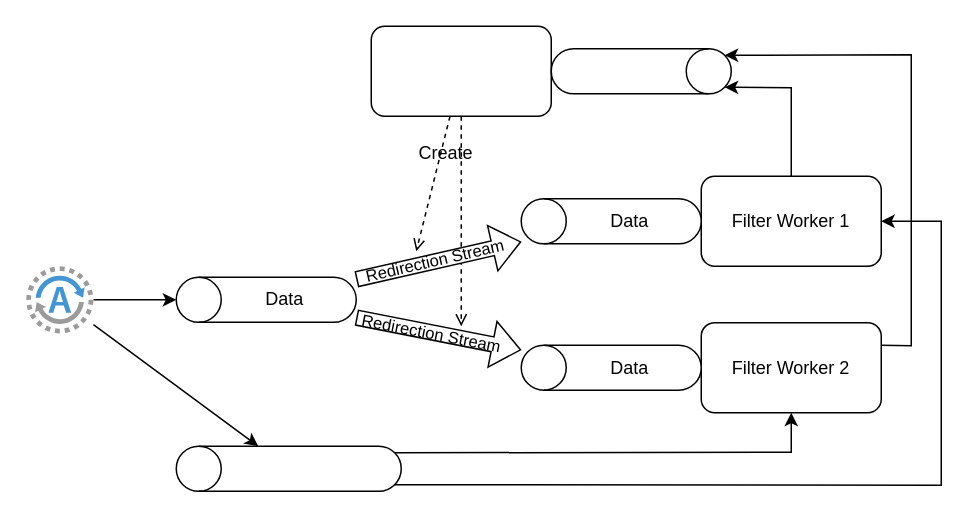
This 980x524 diagram has some shape labels left out. The box of each missing label's shape, as (x1, y1, x2, y2) in pixels:
Data Request: (550, 47, 731, 94)
Orchestrator: (370, 25, 551, 116)
Upload Notifications: (175, 445, 401, 491)
